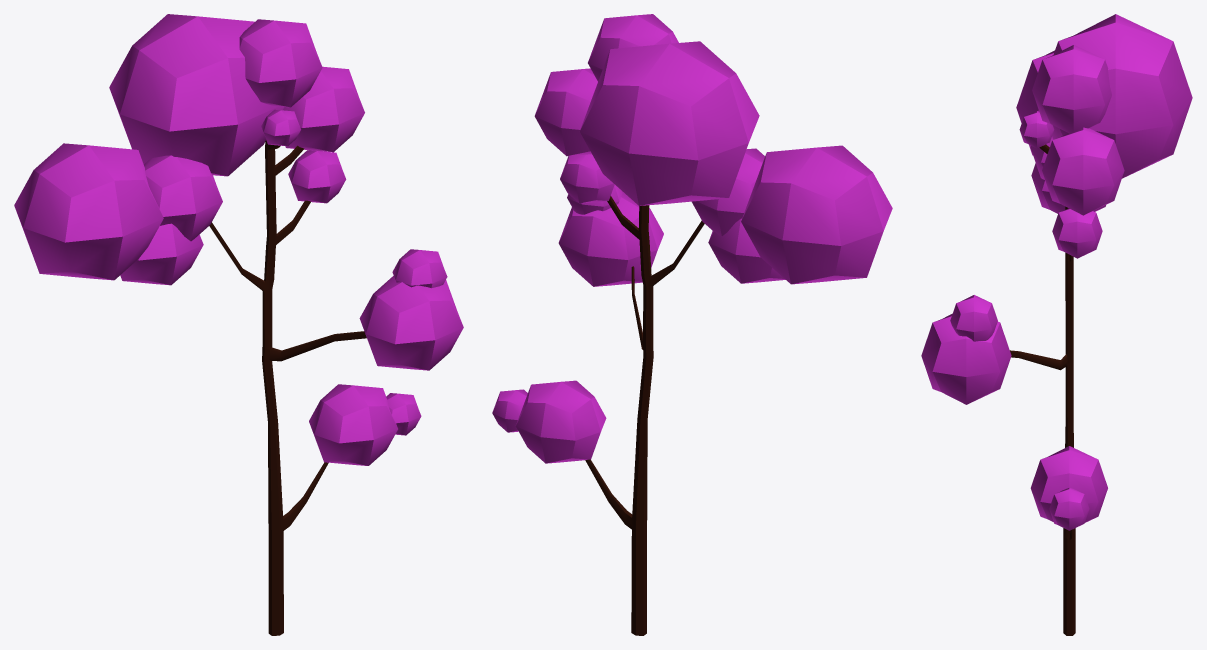
File: Arbol_1.obj
3 renders of one model, left to right at view 1: azimuth 30°, elevation 25°; view 2: azimuth 150°, elevation 25°; view 3: azimuth 270°, elevation 25°, orthographic. The views are drawn at different scales.
Parts seen in each view (by area): view 1: Arbol_1; view 2: Arbol_1; view 3: Arbol_1.
Part boxes in pixels (bbox=[...]): Arbol_1: bbox=[14, 14, 463, 635]; Arbol_1: bbox=[492, 14, 892, 635]; Arbol_1: bbox=[921, 14, 1192, 635].
Bounding box in the file's own units: 14.87 × 22.34 × 9.39.
